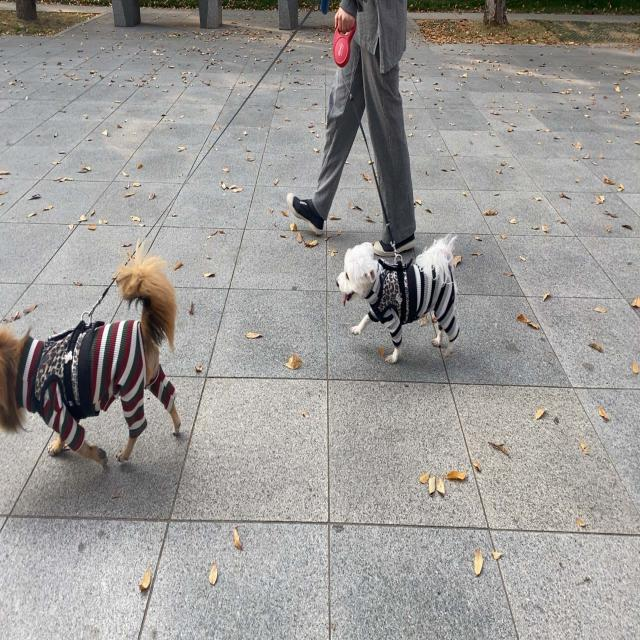Leashed_Dog: (0, 0, 340, 475), (336, 0, 460, 364)
